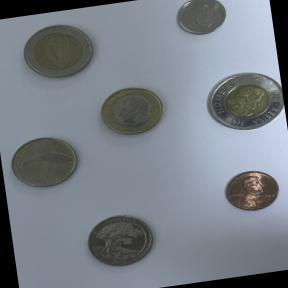1 Euro-B: (94, 78, 170, 142)
2 Euro-B: (15, 16, 103, 88)
Canada-10cent-B: (169, 0, 233, 40)
Canada-2Dollar-B: (199, 64, 287, 140)
Croatia-2Kune-B: (5, 128, 84, 192)
US-1cent-B: (217, 164, 284, 218)
US-25cent-B: (79, 208, 160, 273)
